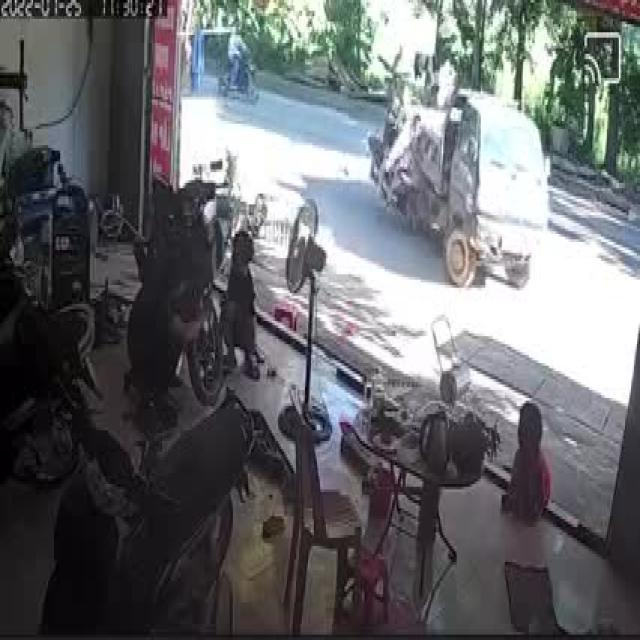multiple_accident: (364, 58, 551, 299)
